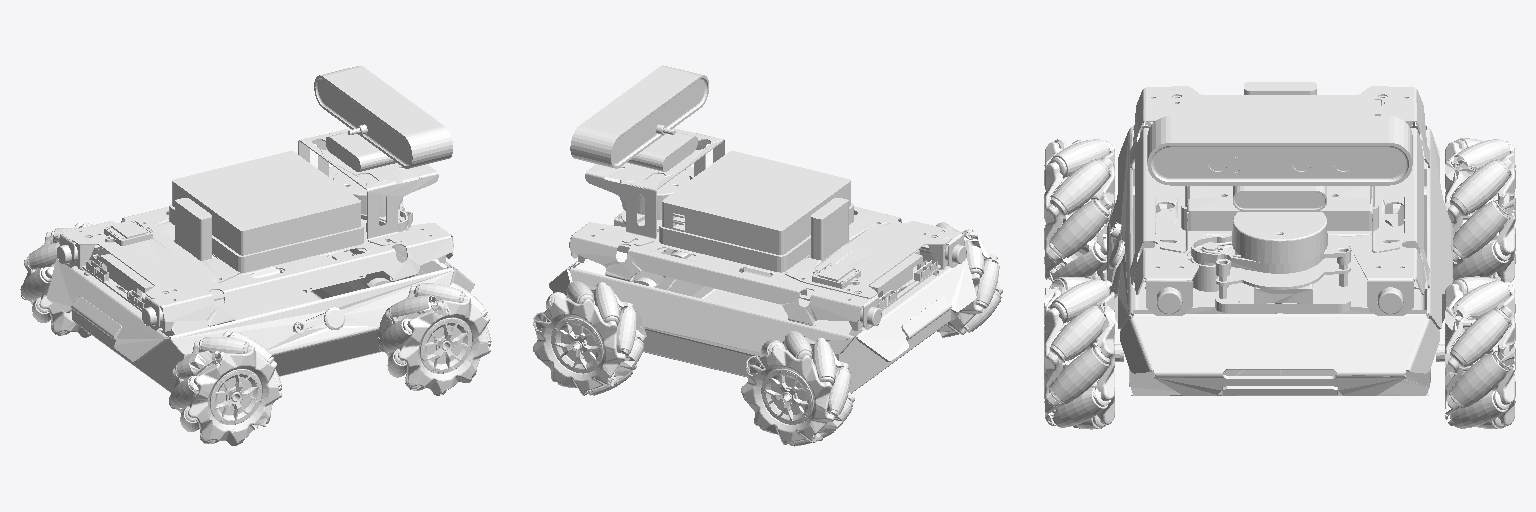
The robot description file, URDF, robot "mowen2":
<?xml version="1.0" encoding="utf-8"?>
<!-- This URDF was automatically created by SolidWorks to URDF Exporter! Originally created by [author] ([email redacted]) 
     Commit Version: 1.6.0-4-g7f85cfe  Build Version: 1.6.7995.38578
     For more information, please see http://wiki.ros.org/sw_urdf_exporter -->
<robot
  name="mowen2">

  <link
    name="base_footprint"/>

  <link
    name="base_link">
    <inertial>
      <origin
        xyz="-0.0718509386127855 0.00738215784490594 0.119676355791491"
        rpy="0 0 0" />
      <mass
        value="7.78291953099975E-06" />
      <inertia
        ixx="1.25849372951706E-08"
        ixy="1.29089020013628E-09"
        ixz="-1.25396468733165E-18"
        iyy="3.68265108559641E-09"
        iyz="-8.82600151922111E-20"
        izz="1.62660632312823E-08" />
    </inertial>
    <visual>
      <origin
        xyz="0 0 0"
        rpy="0 0 0" />
      <geometry>
        <mesh
          filename="package://mowen2/meshes/mecanum/base_link.STL" />
      </geometry>
      <material
        name="">
        <color
          rgba="1 1 1 1" />
      </material>
    </visual>
    <collision>
      <origin
        xyz="0 0 0"
        rpy="0 0 0" />
      <geometry>
        <mesh
          filename="package://mowen2/meshes/mecanum/base_link.STL" />
      </geometry>
    </collision>
  </link>
  <link
    name="front_left_wheel">
    <inertial>
      <origin
        xyz="-0.199119784807379 -0.138021691116814 0.071103918576079"
        rpy="0 0 0" />
      <mass
        value="7.78291953099945E-06" />
      <inertia
        ixx="1.25849372951706E-08"
        ixy="1.29089020013659E-09"
        ixz="-1.25397068458052E-18"
        iyy="3.68265108559631E-09"
        iyz="-8.82736813406885E-20"
        izz="1.62660632312823E-08" />
    </inertial>
    <visual>
      <origin
        xyz="0 0 0"
        rpy="0 0 0" />
      <geometry>
        <mesh
          filename="package://mowen2/meshes/mecanum/front_left_wheel.STL" />
      </geometry>
      <material
        name="">
        <color
          rgba="1 1 1 1" />
      </material>
    </visual>
    <collision>
      <origin
        xyz="0 0 0"
        rpy="0 0 0" />
      <geometry>
        <mesh
          filename="package://mowen2/meshes/mecanum/front_left_wheel.STL" />
      </geometry>
    </collision>
  </link>
  <joint
    name="front_left_joint"
    type="continuous">
    <origin
      xyz="0.12727 0.1454 0.048572"
      rpy="0 0 0" />
    <parent
      link="base_link" />
    <child
      link="front_left_wheel" />
    <axis
      xyz="0 1 0" />
  </joint>
  <link
    name="front_right_wheel">
    <inertial>
      <origin
        xyz="-0.199063466201963 0.152786006806629 0.0710729630656461"
        rpy="0 0 0" />
      <mass
        value="7.78291953099945E-06" />
      <inertia
        ixx="1.25849372951707E-08"
        ixy="1.29089020013647E-09"
        ixz="-1.25396591258739E-18"
        iyy="3.68265108559628E-09"
        iyz="-8.82581209110238E-20"
        izz="1.62660632312823E-08" />
    </inertial>
    <visual>
      <origin
        xyz="0 0 0"
        rpy="0 0 0" />
      <geometry>
        <mesh
          filename="package://mowen2/meshes/mecanum/front_right_wheel.STL" />
      </geometry>
      <material
        name="">
        <color
          rgba="1 1 1 1" />
      </material>
    </visual>
    <collision>
      <origin
        xyz="0 0 0"
        rpy="0 0 0" />
      <geometry>
        <mesh
          filename="package://mowen2/meshes/mecanum/front_right_wheel.STL" />
      </geometry>
    </collision>
  </link>
  <joint
    name="front_right_joint"
    type="continuous">
    <origin
      xyz="0.12721 -0.1454 0.048603"
      rpy="0 0 0" />
    <parent
      link="base_link" />
    <child
      link="front_right_wheel" />
    <axis
      xyz="0 1 0" />
  </joint>
  <link
    name="back_left_wheel">
    <inertial>
      <origin
        xyz="0.00789687485202048 -0.138021691116814 0.0710896498186508"
        rpy="0 0 0" />
      <mass
        value="7.78291953099945E-06" />
      <inertia
        ixx="1.25849372951707E-08"
        ixy="1.29089020013647E-09"
        ixz="-1.25395919207575E-18"
        iyy="3.68265108559628E-09"
        iyz="-8.8282246737383E-20"
        izz="1.62660632312823E-08" />
    </inertial>
    <visual>
      <origin
        xyz="0 0 0"
        rpy="0 0 0" />
      <geometry>
        <mesh
          filename="package://mowen2/meshes/mecanum/back_left_wheel.STL" />
      </geometry>
      <material
        name="">
        <color
          rgba="1 1 1 1" />
      </material>
    </visual>
    <collision>
      <origin
        xyz="0 0 0"
        rpy="0 0 0" />
      <geometry>
        <mesh
          filename="package://mowen2/meshes/mecanum/back_left_wheel.STL" />
      </geometry>
    </collision>
  </link>
  <joint
    name="back_left_joint"
    type="continuous">
    <origin
      xyz="-0.079748 0.1454 0.048587"
      rpy="0 0 0" />
    <parent
      link="base_link" />
    <child
      link="back_left_wheel" />
    <axis
      xyz="0 1 0" />
  </joint>
  <link
    name="back_right_wheel">
    <inertial>
      <origin
        xyz="0.00792558007520176 0.152786006806629 0.0712769954892365"
        rpy="0 0 0" />
      <mass
        value="7.78291953099945E-06" />
      <inertia
        ixx="1.25849372951707E-08"
        ixy="1.29089020013647E-09"
        ixz="-1.25396591258739E-18"
        iyy="3.68265108559628E-09"
        iyz="-8.82581209110245E-20"
        izz="1.62660632312823E-08" />
    </inertial>
    <visual>
      <origin
        xyz="0 0 0"
        rpy="0 0 0" />
      <geometry>
        <mesh
          filename="package://mowen2/meshes/mecanum/back_right_wheel.STL" />
      </geometry>
      <material
        name="">
        <color
          rgba="1 1 1 1" />
      </material>
    </visual>
    <collision>
      <origin
        xyz="0 0 0"
        rpy="0 0 0" />
      <geometry>
        <mesh
          filename="package://mowen2/meshes/mecanum/back_right_wheel.STL" />
      </geometry>
    </collision>
  </link>
  <joint
    name="back_right_joint"
    type="continuous">
    <origin
      xyz="-0.079777 -0.1454 0.048399"
      rpy="0 0 0" />
    <parent
      link="base_link" />
    <child
      link="back_right_wheel" />
    <axis
      xyz="0 1 0" />
  </joint>
  <link
    name="imu_link">
    <inertial>
      <origin
        xyz="-0.216043303058216 -0.0052321578449091 -0.0162763557914886"
        rpy="0 0 0" />
      <mass
        value="7.78291953099945E-06" />
      <inertia
        ixx="1.25849372951707E-08"
        ixy="-1.29089020013647E-09"
        ixz="1.25396591258739E-18"
        iyy="3.68265108559628E-09"
        iyz="-8.82581209110243E-20"
        izz="1.62660632312823E-08" />
    </inertial>
    <visual>
      <origin
        xyz="0 0 0"
        rpy="0 0 0" />
      <geometry>
        <mesh
          filename="package://mowen2/meshes/sensor/imu_link.STL" />
      </geometry>
      <material
        name="">
        <color
          rgba="1 1 1 1" />
      </material>
    </visual>
    <collision>
      <origin
        xyz="0 0 0"
        rpy="0 0 0" />
      <geometry>
        <mesh
          filename="package://mowen2/meshes/sensor/imu_link.STL" />
      </geometry>
    </collision>
  </link>
  <joint
    name="base_imu"
    type="fixed">
    <origin
      xyz="0.14419 0.00215 0.1034"
      rpy="3.1416 0 0" />
    <parent
      link="base_link" />
    <child
      link="imu_link" />
    <axis
      xyz="0 0 0" />
  </joint>
  <link
    name="camera_link">
    <inertial>
      <origin
        xyz="-0.220993303058215 0.00787952902341162 -0.0803035792325282"
        rpy="0 0 0" />
      <mass
        value="7.78291953099945E-06" />
      <inertia
        ixx="1.25849372951706E-08"
        ixy="1.29089020013658E-09"
        ixz="-1.25396359603132E-18"
        iyy="3.68265108559631E-09"
        iyz="-8.82807023666849E-20"
        izz="1.62660632312823E-08" />
    </inertial>
    <visual>
      <origin
        xyz="0 0 0"
        rpy="0 0 0" />
      <geometry>
        <mesh
          filename="package://mowen2/meshes/sensor/camera_link.STL" />
      </geometry>
      <material
        name="">
        <color
          rgba="1 1 1 1" />
      </material>
    </visual>
    <collision>
      <origin
        xyz="0 0 0"
        rpy="0 0 0" />
      <geometry>
        <mesh
          filename="package://mowen2/meshes/sensor/camera_link.STL" />
      </geometry>
    </collision>
  </link>
  <joint
    name="camera_joint"
    type="fixed">
    <origin
      xyz="0.14914 -0.00049737 0.19998"
      rpy="0 0 0" />
    <parent
      link="base_link" />
    <child
      link="camera_link" />
    <axis
      xyz="0 0 0" />
  </joint>
  <link
    name="laser_link">
    <inertial>
      <origin
        xyz="-0.205591625169509 0.00738215784490645 -0.0163143442085112"
        rpy="0 0 0" />
      <mass
        value="7.78291953099945E-06" />
      <inertia
        ixx="1.25849372951706E-08"
        ixy="1.29089020013658E-09"
        ixz="-1.25396359603132E-18"
        iyy="3.68265108559631E-09"
        iyz="-8.82807023666849E-20"
        izz="1.62660632312823E-08" />
    </inertial>
    <visual>
      <origin
        xyz="0 0 0"
        rpy="0 0 0" />
      <geometry>
        <mesh
          filename="package://mowen2/meshes/sensor/laser_link.STL" />
      </geometry>
      <material
        name="">
        <color
          rgba="1 1 1 1" />
      </material>
    </visual>
    <collision>
      <origin
        xyz="0 0 0"
        rpy="0 0 0" />
      <geometry>
        <mesh
          filename="package://mowen2/meshes/sensor/laser_link.STL" />
      </geometry>
    </collision>
  </link>
  <joint
    name="laser_joint"
    type="fixed">
    <origin
      xyz="0.13374 0 0.13599"
      rpy="0 0 0" />
    <parent
      link="base_link" />
    <child
      link="laser_link" />
    <axis
      xyz="0 0 0" />
  </joint>
  <joint name="base_joint" type="fixed">
      <parent link="base_footprint"/>
      <child link="base_link"/>
      <origin xyz="0.0 0.0 0.0" rpy="0 0 0"/>
  </joint>
</robot>

--- What the picture shows (computed from the rendered views, not written in the file) ---
The picture shows the robot from 3 angles, left to right: view 1: azimuth 30°, elevation 25°; view 2: azimuth 150°, elevation 25°; view 3: azimuth 270°, elevation 25°; orthographic projection.
Robot: mowen2 — 9 links, 8 joints (4 continuous, 4 fixed); root link base_footprint; default pose: all joints at 0.
Links seen in each view (by area): view 1: base_link, back_right_wheel, camera_link, front_right_wheel, back_left_wheel, laser_link; view 2: base_link, front_left_wheel, back_left_wheel, camera_link, back_right_wheel, laser_link; view 3: base_link, camera_link, front_right_wheel, front_left_wheel, laser_link, back_left_wheel, back_right_wheel, imu_link.
Link boxes in pixels (box(x1,y1,x2,y2)): base_link: box(47, 128, 474, 392); back_right_wheel: box(169, 331, 281, 445); camera_link: box(314, 66, 452, 171); front_right_wheel: box(378, 283, 491, 395); back_left_wheel: box(20, 223, 99, 337); laser_link: box(333, 172, 412, 251); base_link: box(549, 128, 976, 393); front_left_wheel: box(533, 281, 644, 395); back_left_wheel: box(741, 331, 854, 446); camera_link: box(570, 65, 708, 171); back_right_wheel: box(924, 222, 1002, 337); laser_link: box(620, 171, 693, 231); base_link: box(1107, 82, 1452, 395); camera_link: box(1147, 116, 1412, 210); front_right_wheel: box(1044, 277, 1123, 429); front_left_wheel: box(1436, 276, 1515, 428); laser_link: box(1191, 212, 1350, 298); back_left_wheel: box(1445, 138, 1515, 282); back_right_wheel: box(1044, 139, 1114, 281); imu_link: box(1240, 280, 1326, 303).
Bounding box of the posed robot: 0.3334 × 0.2981 × 0.2149 m (x, y, z).
Meshes: 8 distinct files referenced, 8 mesh visuals loaded (8 binary STL).
